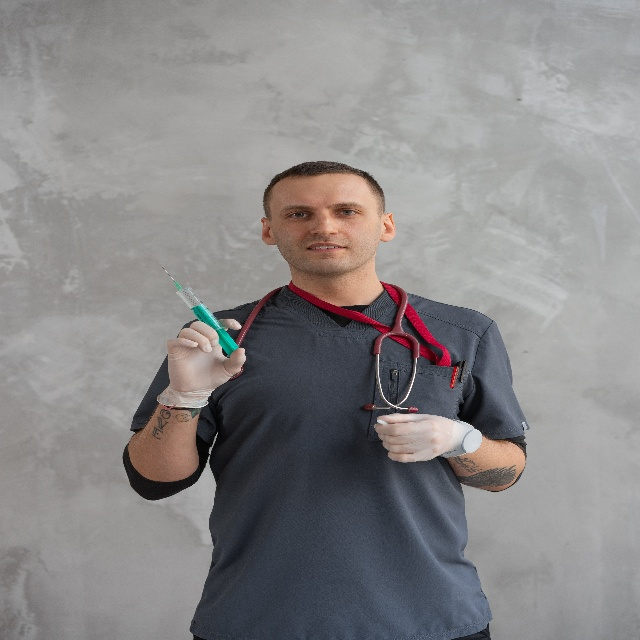Guantes: (156, 317, 247, 409), (374, 413, 482, 463)
Sin_guantes: (166, 319, 247, 391), (374, 413, 452, 462)
